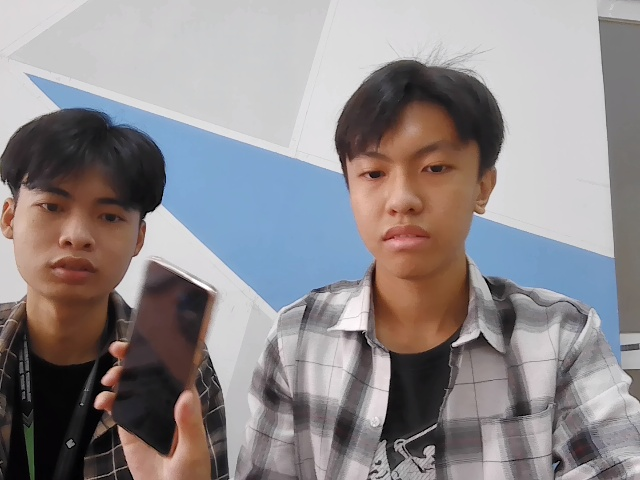human: (338, 57, 501, 268), (5, 107, 169, 311)
phone: (108, 253, 225, 456)
